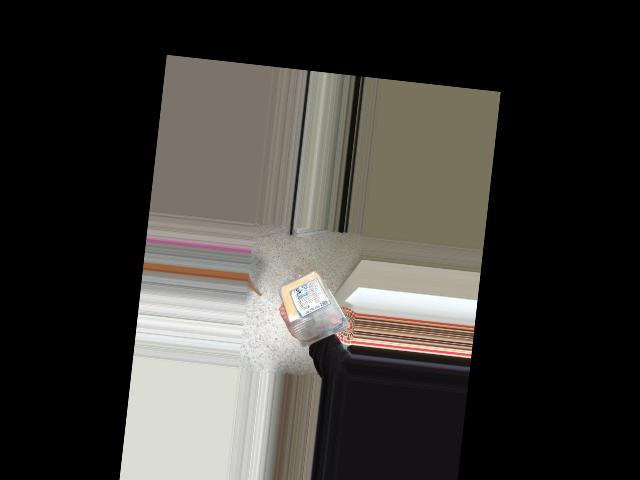cheese: (284, 265, 349, 341)
